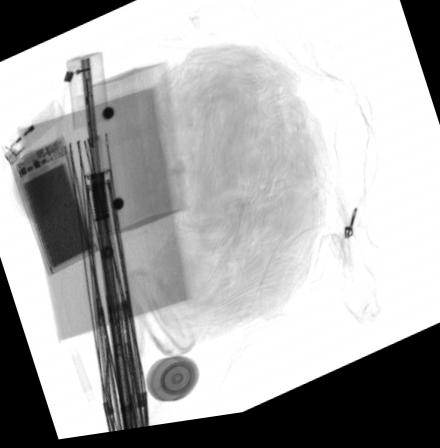Lighter: (0, 100, 65, 165)
Powerbank: (8, 136, 102, 278)
Sprayer: (144, 361, 199, 407)
